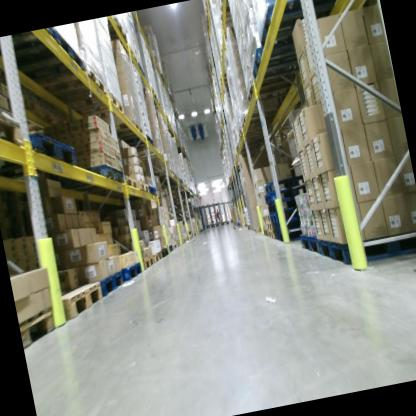pallet: (0, 23, 89, 92), (316, 215, 416, 276), (252, 0, 346, 50), (29, 62, 108, 109), (26, 118, 80, 178), (247, 36, 314, 79), (56, 278, 108, 322), (68, 90, 126, 124), (242, 71, 298, 105), (19, 306, 61, 351), (79, 156, 126, 190), (0, 91, 26, 152), (260, 168, 310, 197), (90, 268, 127, 301), (264, 192, 305, 215), (239, 106, 278, 130), (108, 115, 144, 140), (235, 120, 274, 141), (297, 229, 322, 260), (262, 185, 302, 203), (104, 17, 128, 47), (120, 259, 147, 284), (267, 204, 300, 224), (271, 213, 302, 233), (133, 145, 165, 163), (273, 226, 304, 244), (126, 132, 155, 151), (120, 166, 138, 191), (134, 174, 149, 195), (141, 255, 156, 274), (262, 211, 274, 226), (252, 222, 264, 237), (147, 183, 159, 197), (152, 249, 163, 264), (161, 246, 171, 261), (264, 222, 276, 230), (175, 238, 183, 249), (268, 230, 276, 240), (263, 227, 270, 238), (171, 239, 178, 250), (167, 244, 174, 254)
